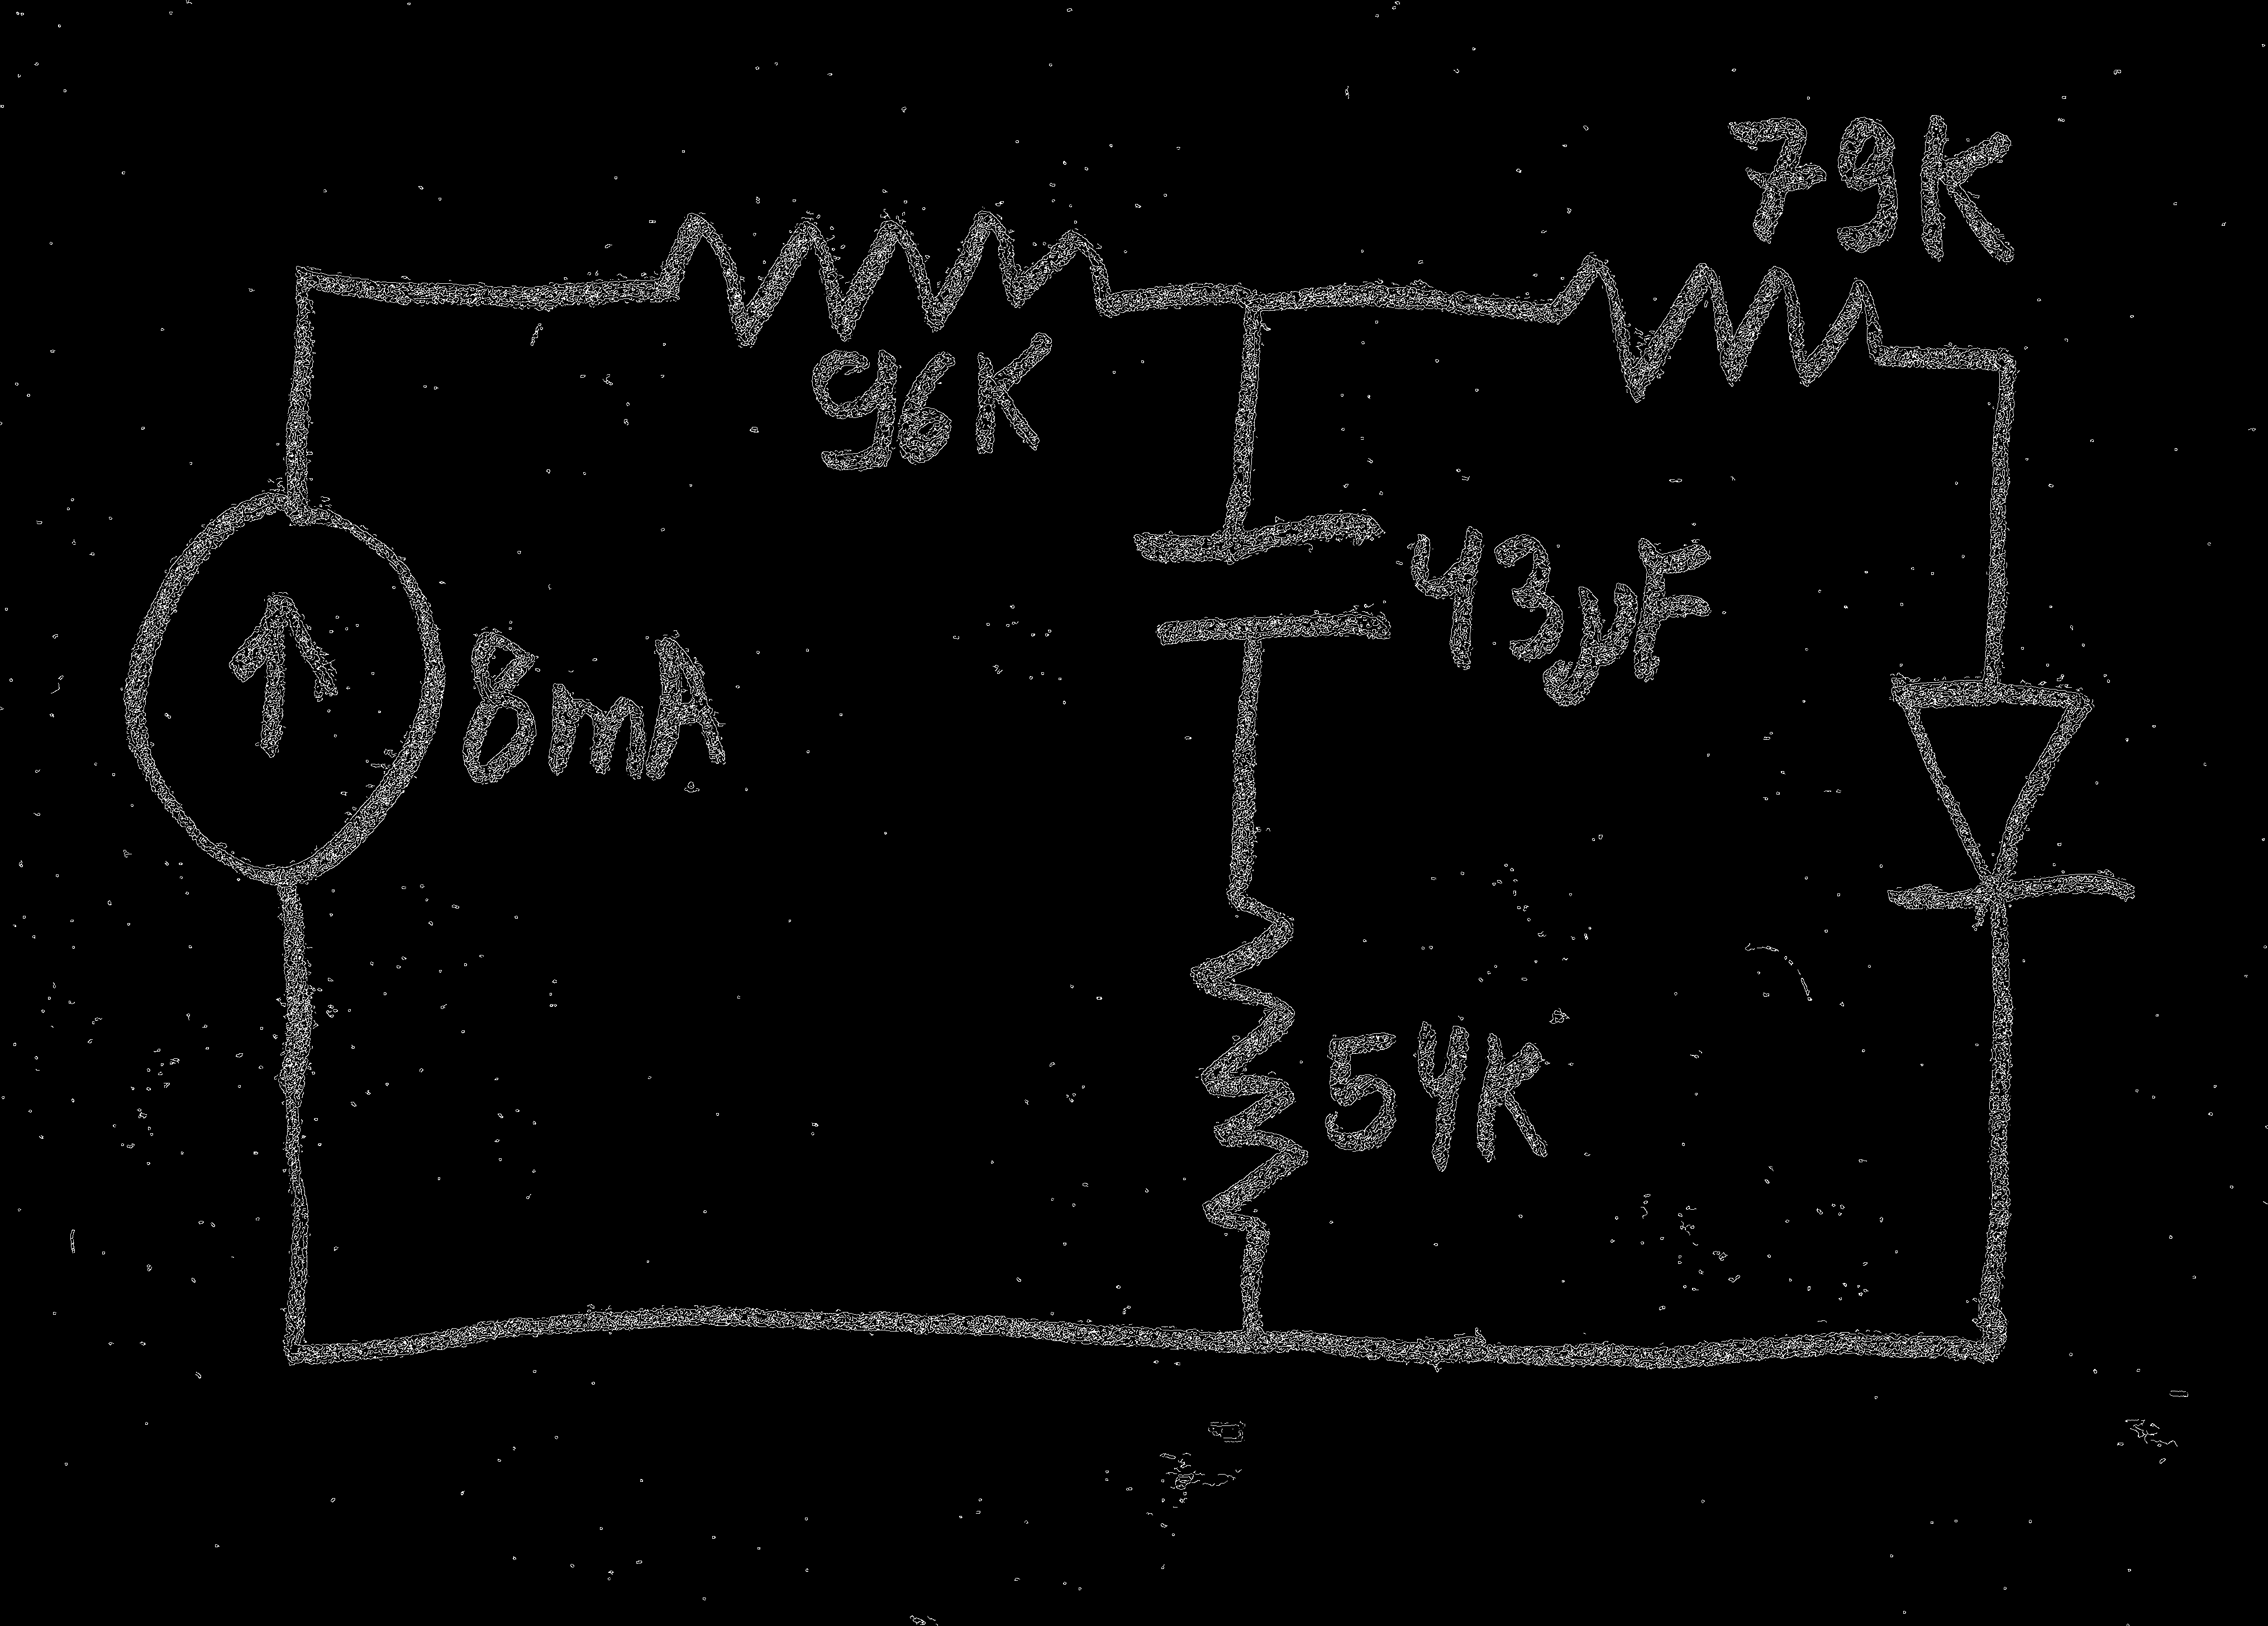3: (1487, 530, 1568, 671)
4: (1404, 517, 1486, 680), (1413, 1012, 1471, 1179)
5: (1319, 1026, 1400, 1159)
6: (899, 345, 956, 474)
7: (1720, 106, 1827, 248)
8: (456, 624, 541, 789)
9: (807, 345, 899, 482), (1827, 116, 1903, 257)
A: (646, 632, 726, 788)
F: (1633, 535, 1714, 682)
k: (1913, 109, 2021, 270), (971, 331, 1052, 462), (1476, 1028, 1550, 1168)
m: (540, 678, 648, 786)
u: (1565, 580, 1633, 704)
